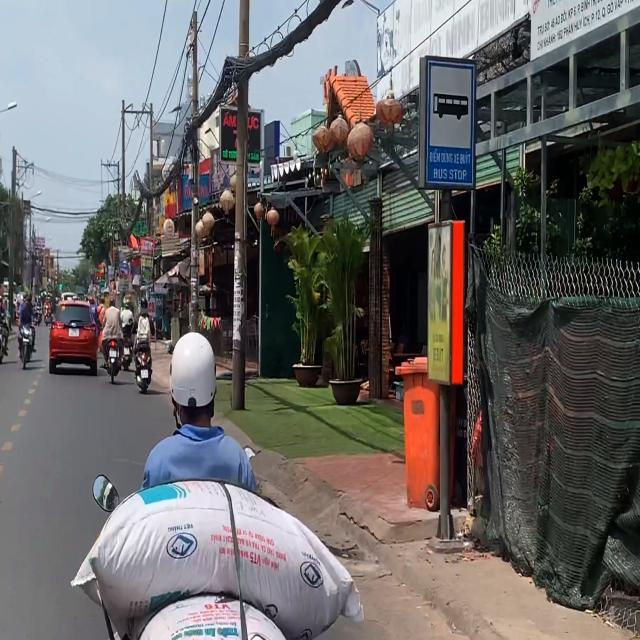Hieu lenh: (418, 48, 477, 195)
